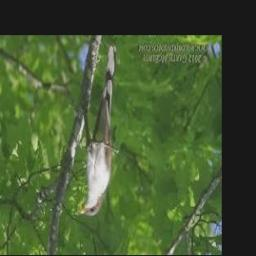Cuckoo: (81, 46, 117, 216)
